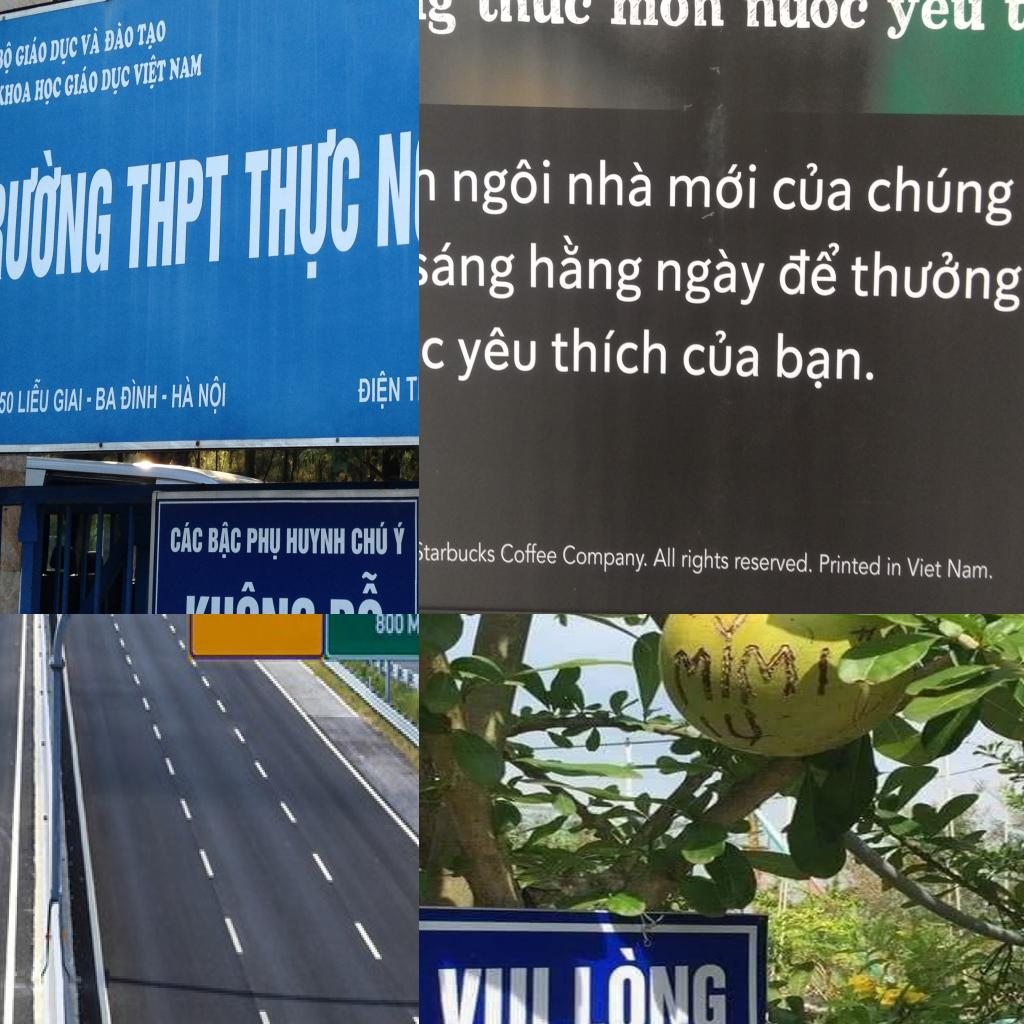text: (242, 122, 360, 284), (0, 139, 118, 290), (119, 149, 233, 274), (572, 944, 729, 1024), (848, 243, 1024, 313), (668, 642, 834, 711), (866, 160, 1016, 229), (373, 79, 419, 269), (528, 232, 645, 304), (655, 244, 771, 310), (434, 965, 555, 1024), (550, 325, 668, 378), (776, 330, 875, 392), (451, 156, 553, 216), (419, 240, 515, 299), (182, 577, 319, 614), (454, 325, 538, 384), (770, 159, 853, 215), (882, 0, 986, 44), (567, 156, 653, 209), (668, 162, 759, 212), (680, 328, 760, 381), (777, 238, 842, 300), (741, 0, 869, 29), (471, 0, 593, 28), (607, 0, 725, 28), (692, 706, 771, 745), (326, 565, 385, 614), (562, 543, 648, 573), (356, 367, 402, 412), (284, 526, 347, 557), (734, 550, 812, 574), (419, 540, 494, 564), (130, 50, 168, 92), (819, 552, 882, 577), (501, 540, 557, 566), (350, 520, 389, 557), (16, 376, 52, 416), (118, 377, 158, 412), (681, 548, 729, 577), (63, 62, 99, 100), (207, 521, 242, 560), (246, 526, 282, 562), (169, 519, 204, 556), (197, 374, 227, 416), (419, 322, 445, 370), (167, 51, 205, 83), (15, 34, 48, 69), (136, 17, 168, 53), (100, 63, 132, 99), (32, 73, 64, 108), (48, 34, 80, 68), (102, 20, 134, 54), (169, 372, 196, 411), (0, 78, 33, 108), (52, 386, 84, 415), (906, 555, 942, 580), (372, 614, 405, 638), (80, 25, 102, 59), (94, 383, 118, 413), (392, 520, 408, 556), (652, 545, 676, 568), (0, 40, 14, 75), (406, 372, 419, 409), (0, 389, 16, 415), (404, 614, 419, 640), (886, 556, 902, 578)
